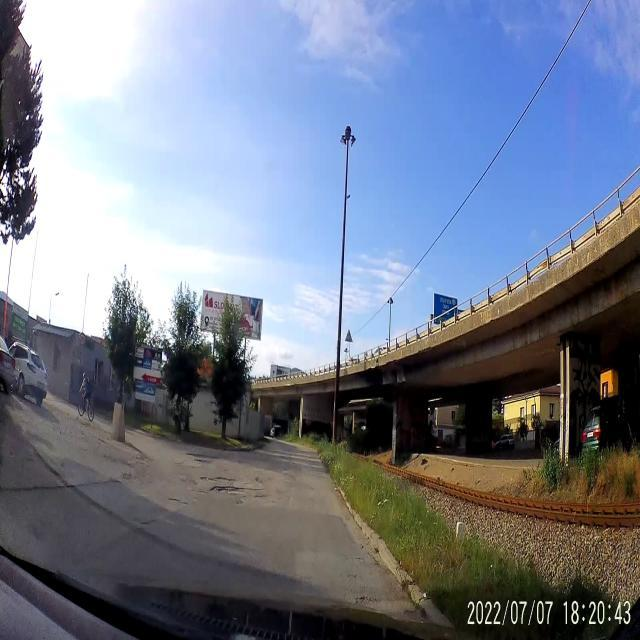Pothole: (210, 484, 263, 496), (162, 494, 190, 506)
